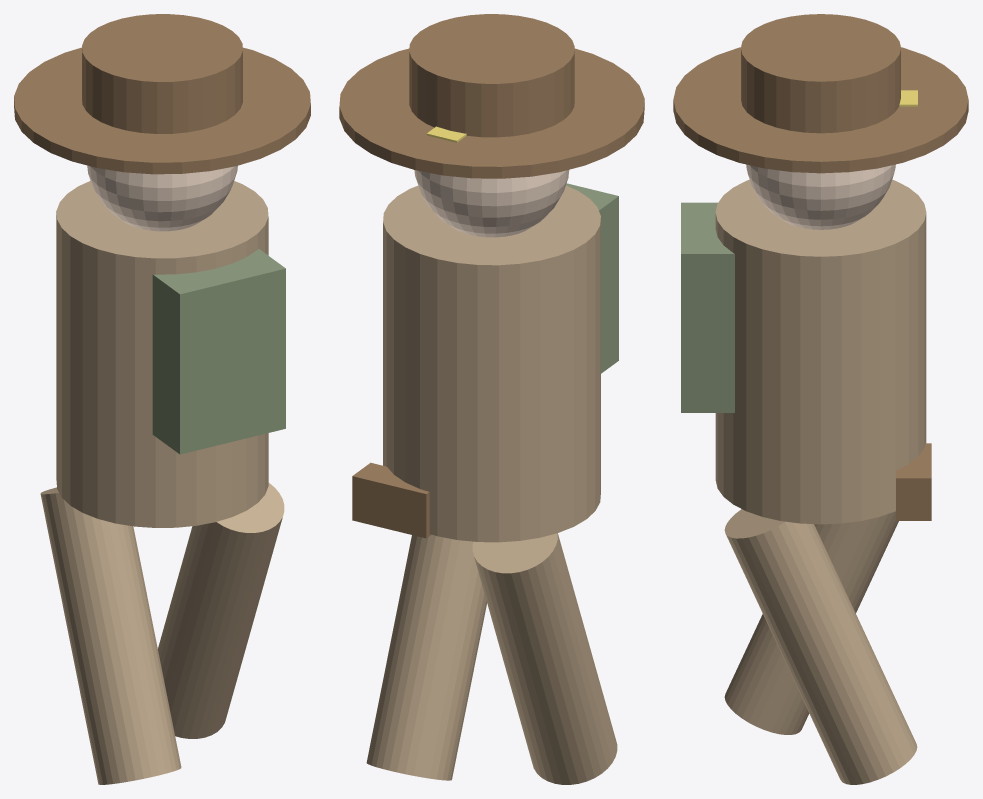
File: alchemist.glb
3 views of the same model, side by side, from view 1: azimuth 30°, elevation 25°; view 2: azimuth 150°, elevation 25°; view 3: azimuth 270°, elevation 25° (orthographic). The views are drawn at different scales.
Parts seen in each view (by area): view 1: Torso, Cubo.001, Leg_L, Cilindro, Leg_R, Cilindro.001, Head; view 2: Torso, Leg_L, Leg_R, Cilindro, Cilindro.001, Head, Cubo.002, Cubo.001; view 3: Torso, Leg_R, Cilindro, Cilindro.001, Cubo.001, Leg_L, Head, Cubo.002.
Part boxes in pixels (bbox=[...]): Torso: bbox=[56, 181, 268, 527]; Cubo.001: bbox=[152, 249, 285, 454]; Leg_L: bbox=[40, 487, 181, 784]; Cilindro: bbox=[14, 47, 310, 174]; Leg_R: bbox=[158, 483, 284, 738]; Cilindro.001: bbox=[82, 14, 242, 133]; Head: bbox=[87, 165, 237, 231]; Torso: bbox=[383, 185, 600, 542]; Leg_L: bbox=[472, 533, 617, 784]; Leg_R: bbox=[366, 534, 486, 780]; Cilindro: bbox=[339, 48, 644, 178]; Cilindro.001: bbox=[409, 14, 574, 137]; Head: bbox=[414, 170, 569, 237]; Cubo.002: bbox=[352, 462, 431, 538]; Cubo.001: bbox=[566, 183, 618, 373]; Torso: bbox=[715, 179, 926, 524]; Leg_R: bbox=[724, 509, 917, 784]; Cilindro: bbox=[673, 47, 968, 173]; Cilindro.001: bbox=[741, 14, 900, 133]; Cubo.001: bbox=[681, 202, 734, 412]; Leg_L: bbox=[724, 511, 898, 734]; Head: bbox=[746, 164, 895, 229]; Cubo.002: bbox=[896, 443, 931, 520].
Bounding box in the file's own units: 0.7 × 1.84 × 0.7.
